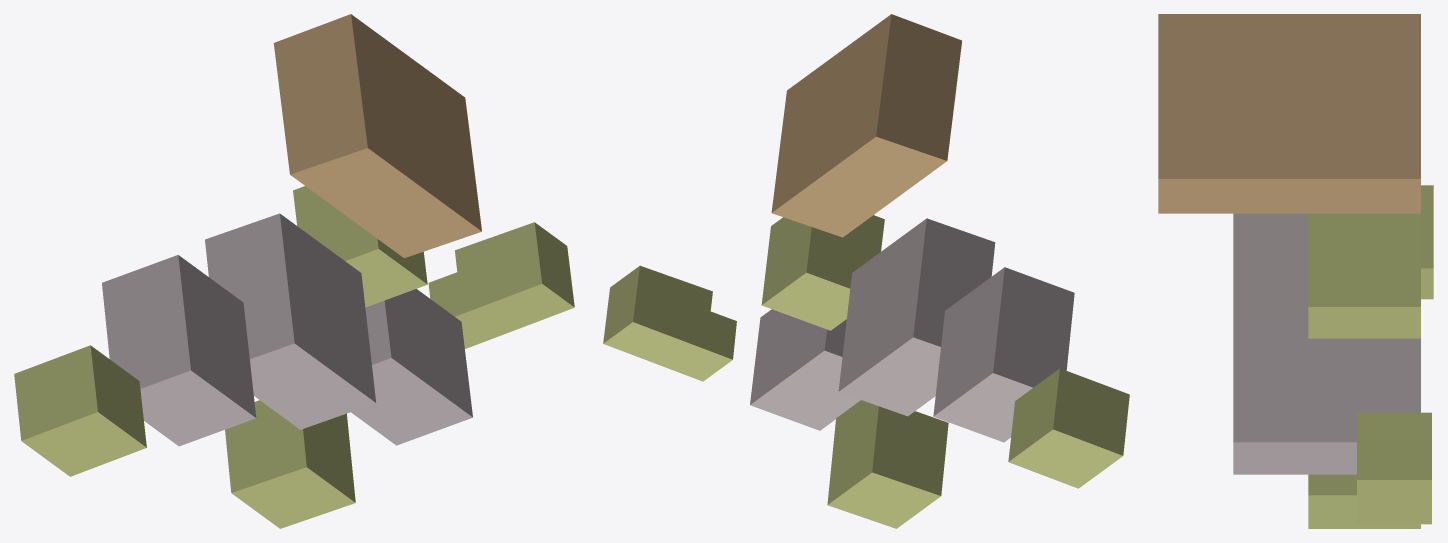
3 renders of one model, left to right at view 1: azimuth 30°, elevation 25°; view 2: azimuth 150°, elevation 25°; view 3: azimuth 270°, elevation 25°, orthographic. The views are drawn at different scales.
Visible parts, largest first — view 1: 0_1_2_3_3_3_3_0_3; view 2: 0_1_2_3_3_3_3_0_3; view 3: 0_1_2_3_3_3_3_0_3.
Part boxes in pixels (left/top/right/bottom): 0_1_2_3_3_3_3_0_3: left=14, top=14, right=574, bottom=528; 0_1_2_3_3_3_3_0_3: left=603, top=14, right=1129, bottom=528; 0_1_2_3_3_3_3_0_3: left=1158, top=14, right=1433, bottom=528.
Size of the model in its own units: 55.95 by 45.62 by 22.02.
